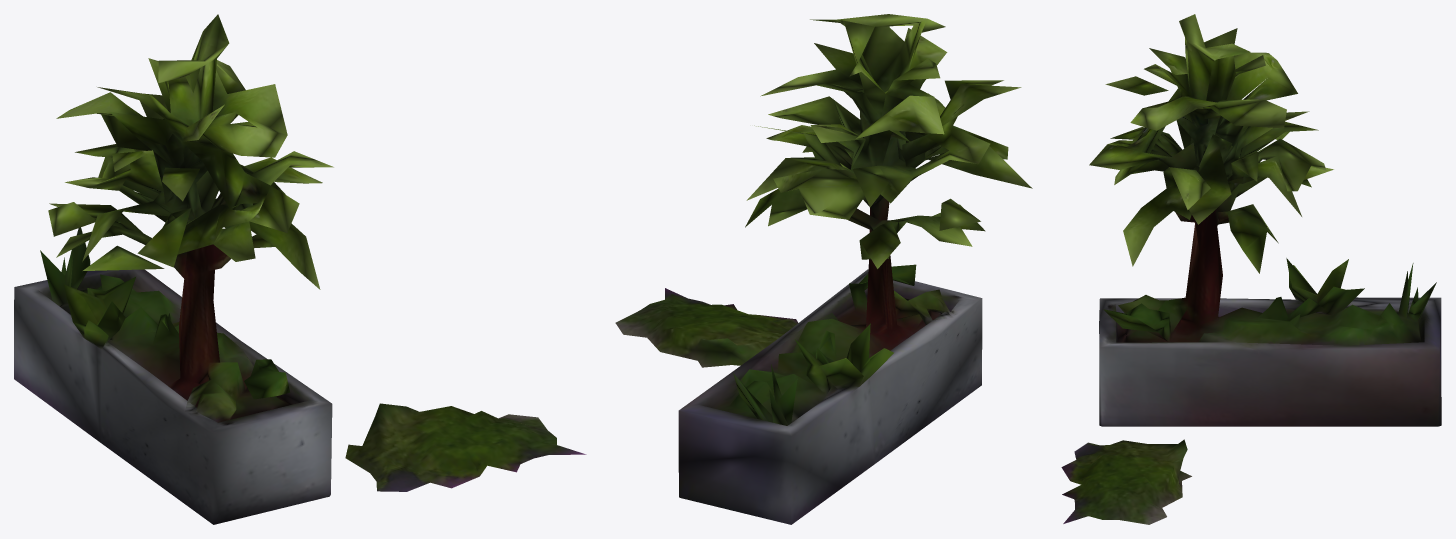
Rendered from 12_plants_grass.glb.
The picture shows the model from 3 angles, left to right: view 1: azimuth 30°, elevation 25°; view 2: azimuth 150°, elevation 25°; view 3: azimuth 270°, elevation 25°; orthographic projection. The views are drawn at different scales.
Visible parts, largest first — view 1: PLANTS_GRASS_ROOT; view 2: PLANTS_GRASS_ROOT; view 3: PLANTS_GRASS_ROOT.
Boxes of the visible parts, x1,y1,x2,y2 form: PLANTS_GRASS_ROOT: [14, 14, 586, 524]; PLANTS_GRASS_ROOT: [615, 14, 1032, 524]; PLANTS_GRASS_ROOT: [1061, 14, 1441, 524].
Bounding box in the file's own units: 0.8814 × 0.8 × 0.7581.
1 material, 1 textured.
